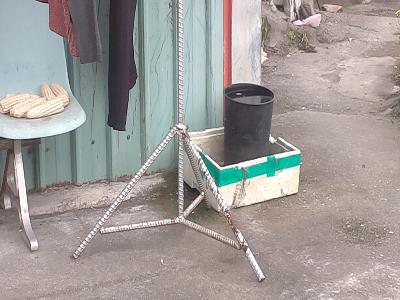bucket: (223, 82, 275, 164)
styrofoam: (184, 126, 302, 215)
